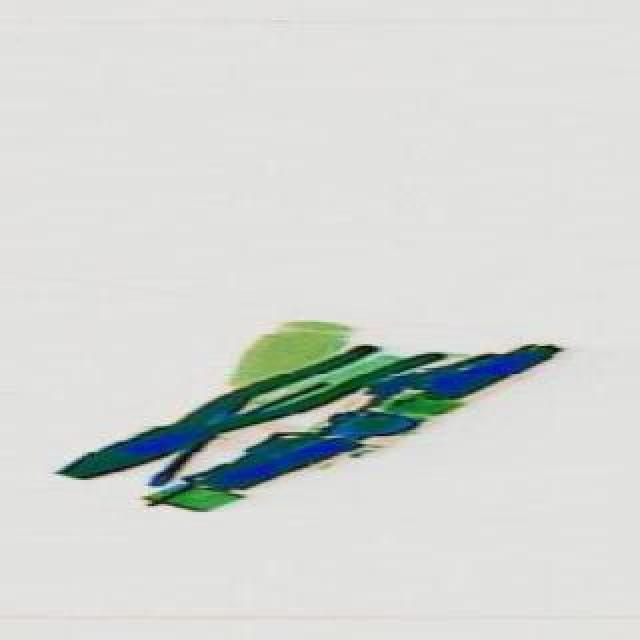wrench: (44, 314, 440, 502)
